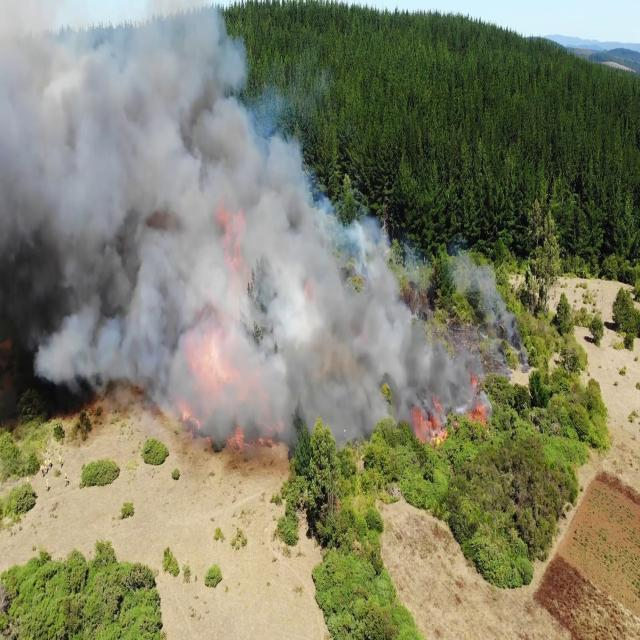Smoke: (0, 1, 457, 442), (0, 0, 259, 430), (219, 136, 453, 447)
